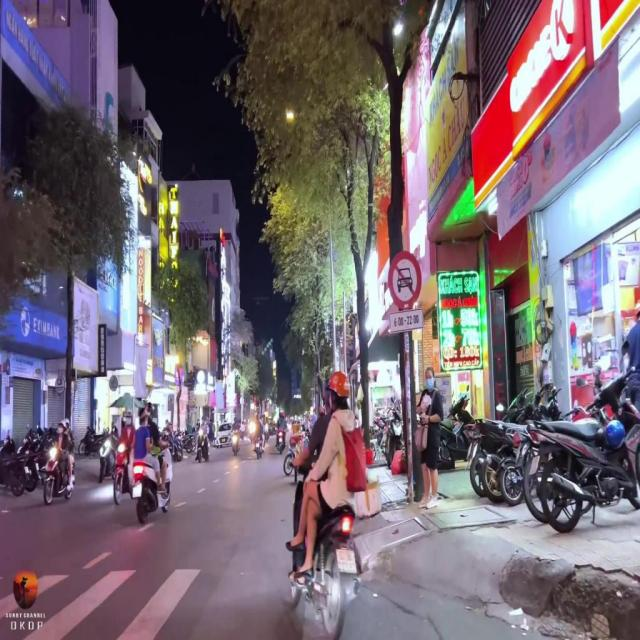cam_o_to: (386, 250, 422, 310)
khac: (389, 308, 423, 334)
